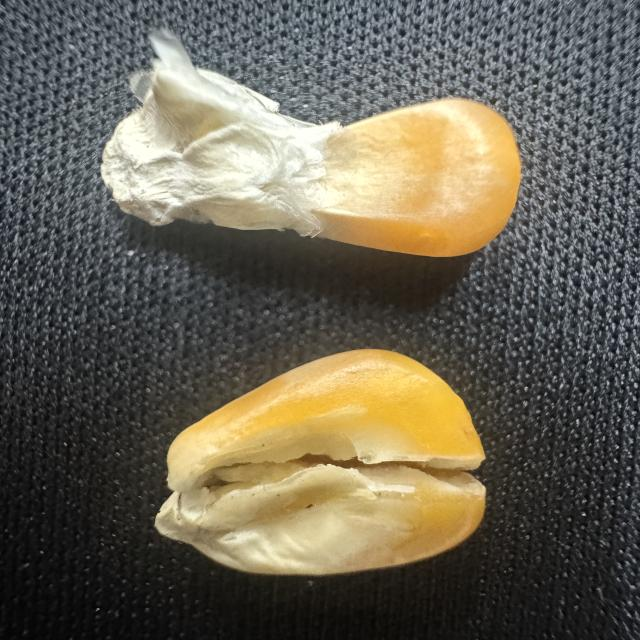Bad-Seed: (89, 21, 533, 271), (149, 334, 502, 584)
